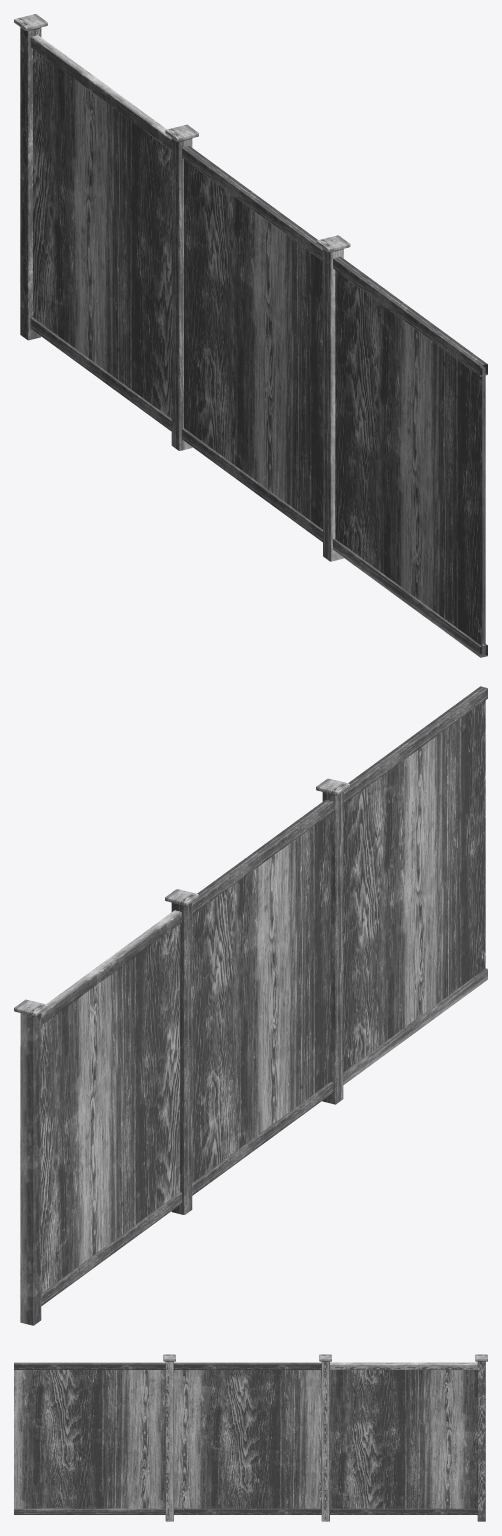
Rendered from SM_OutsideFence_A_600.fbx.
3 views of the same model, one above another, from view 1: azimuth 30°, elevation 25°; view 2: azimuth 150°, elevation 25°; view 3: azimuth 270°, elevation 25° (orthographic). The views are drawn at different scales.
Visible parts, largest first — view 1: SM_OutsideFence_A_600; view 2: SM_OutsideFence_A_600; view 3: SM_OutsideFence_A_600.
Boxes of the visible parts, bbox=[...] form: SM_OutsideFence_A_600: bbox=[14, 14, 487, 657]; SM_OutsideFence_A_600: bbox=[14, 686, 487, 1325]; SM_OutsideFence_A_600: bbox=[14, 1354, 487, 1521].
Bounding box in the file's own units: 17.2 × 608 × 230.
2 materials, 2 textured.
